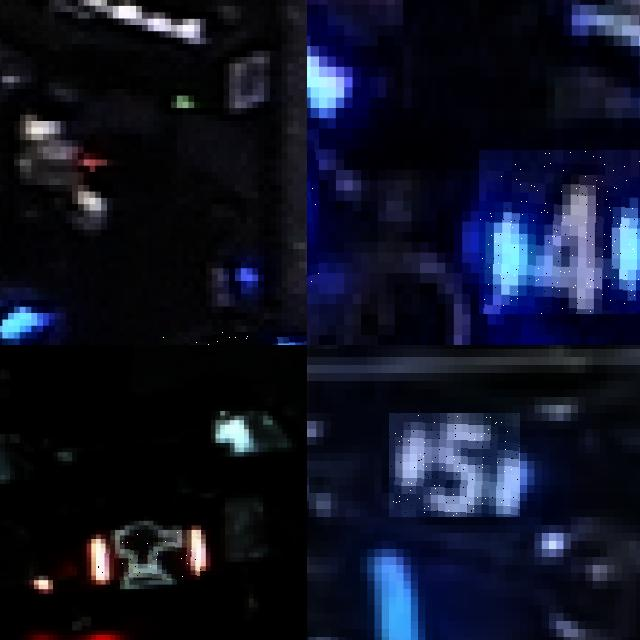B4: (478, 149, 640, 314)
B5: (389, 413, 520, 517)
Rs: (96, 530, 201, 580)
